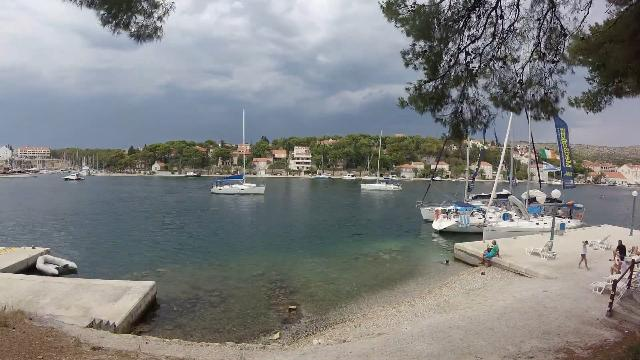Freighter: (0, 160, 46, 180)
Sailboat: (209, 174, 267, 198), (356, 177, 406, 195)
speedboat: (59, 169, 91, 183)
